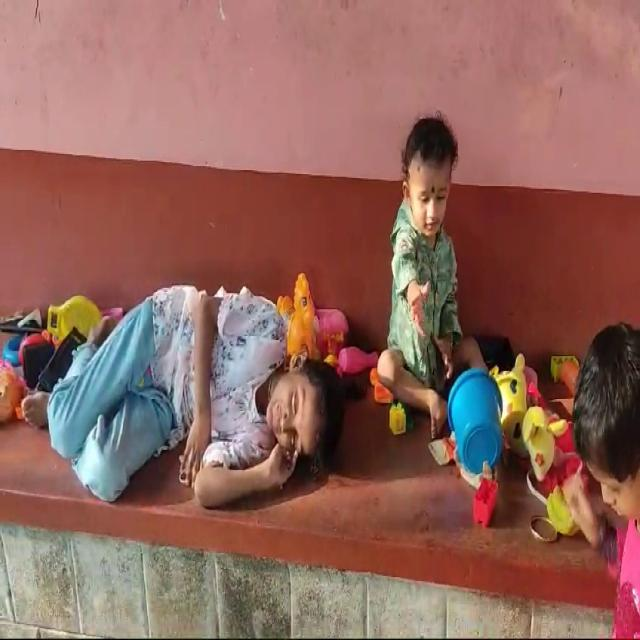child: (10, 229, 346, 527), (363, 52, 552, 516)
